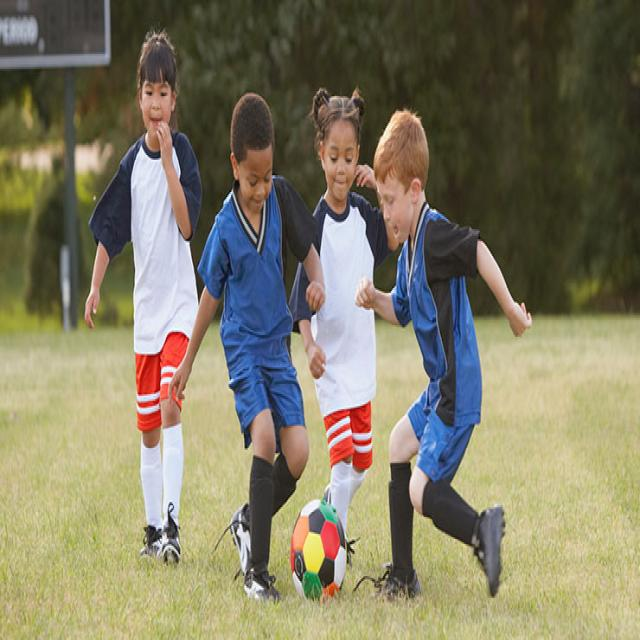child: (357, 108, 532, 604), (168, 91, 324, 604), (84, 25, 198, 565), (288, 82, 396, 570)
